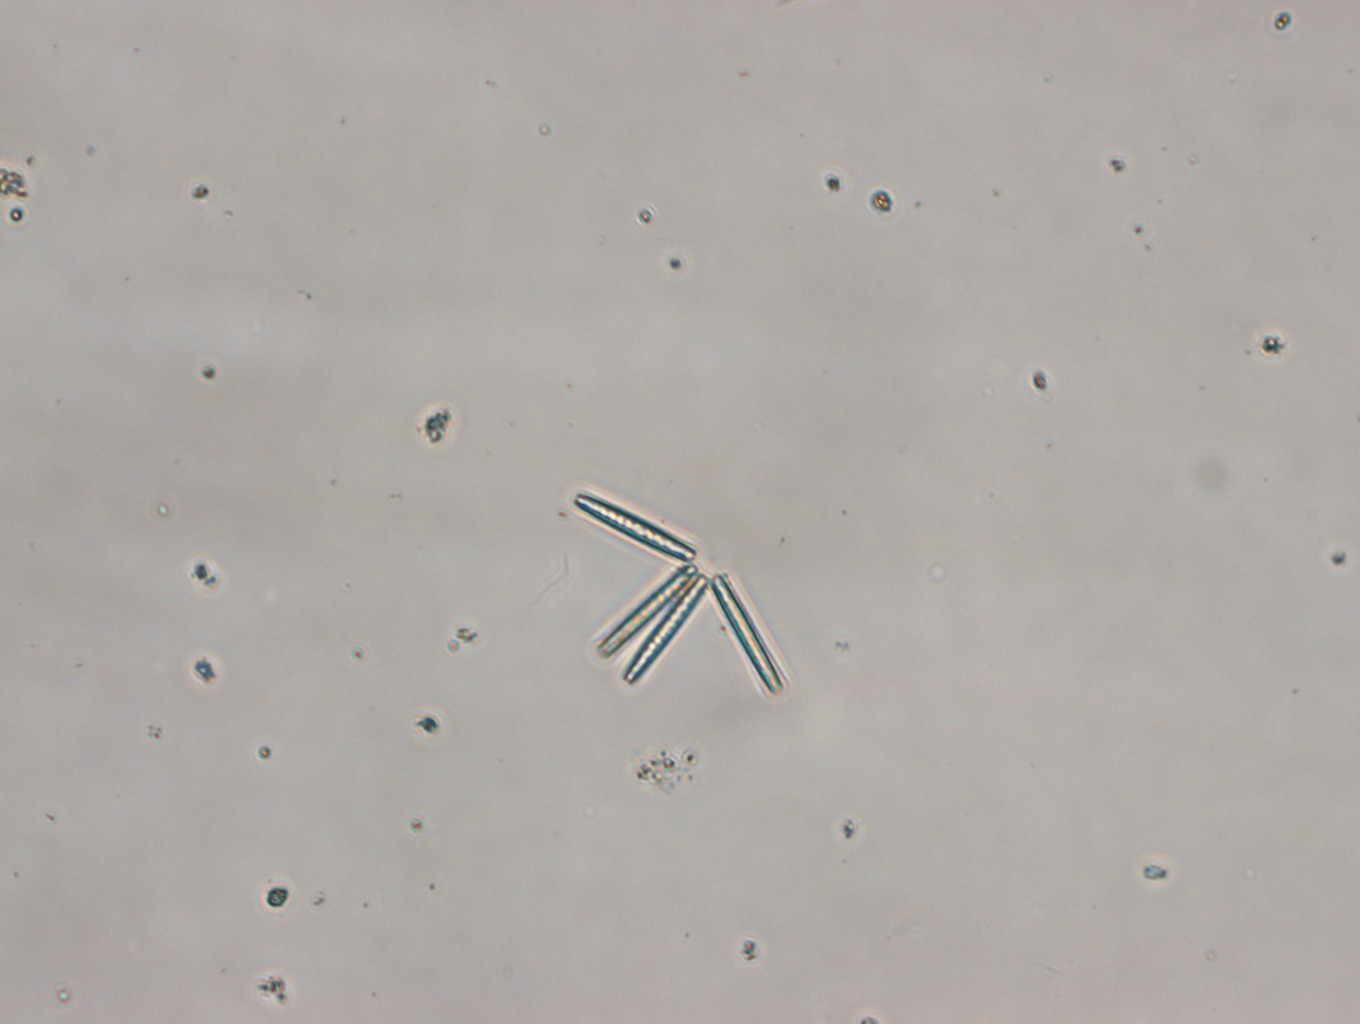thalassionema nitzschioides: (573, 493, 786, 696)
